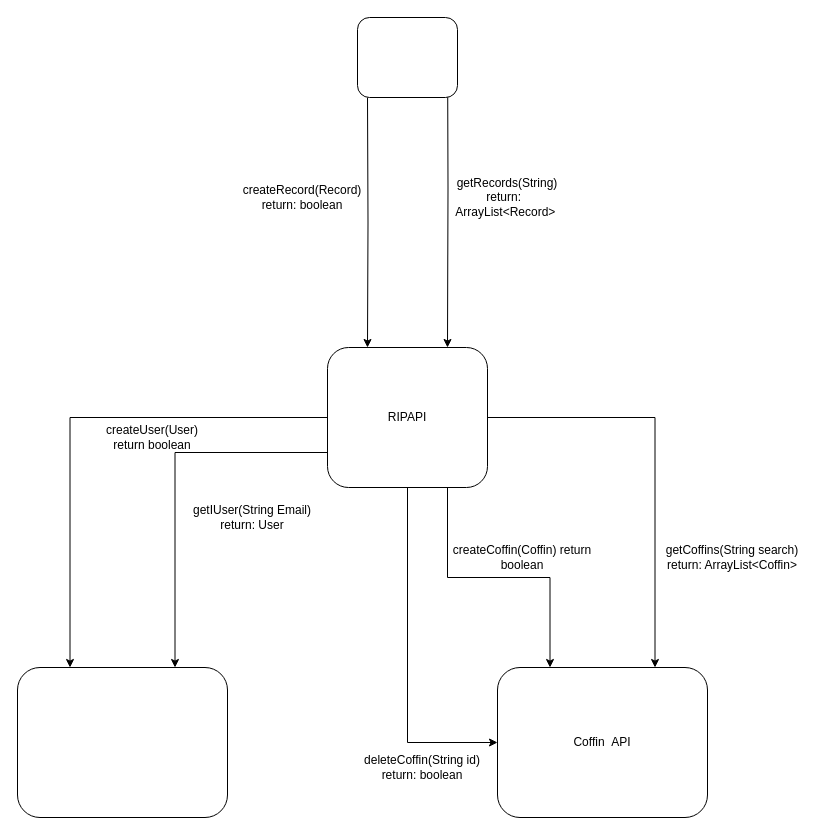
Some shapes in this 825 by 835 pixel diagram are drawn without their labels. The shapes that lost their labels are listed below. From the top down, each one's centre as x and y in pixels, then its label:
At point 407,57: "UI".
At point 122,742: "User API".
